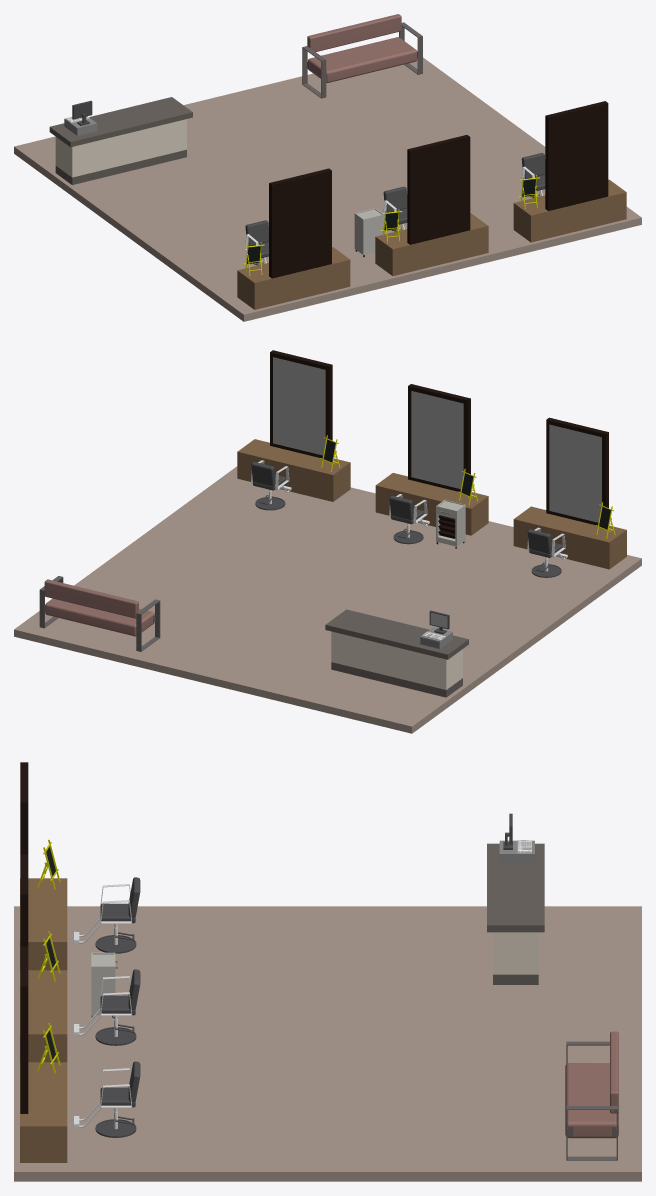
File: Salon.fbx
The picture shows the model from 3 angles, top to bottom: view 1: azimuth 30°, elevation 25°; view 2: azimuth 150°, elevation 25°; view 3: azimuth 270°, elevation 25°; orthographic projection. The views are drawn at different scales.
Parts seen in each view (by area): view 1: Floor, pCube40 (×3), pCube38, Desk1, Desk, Desk2, pCube58, pCube69, pCube68, pCube1 (×3), pCube18, pCube73 (+1 smaller); view 2: Floor, pPlane1 (×3), pCube38, pCube40 (×3), Desk2, Desk, Desk1, pCube58, pCube69, pCube68, pCube18, pCube73; view 3: Floor, pCube58, Desk, Desk2, Desk1, pCube69, pCube40 (×3), pCube38, pCube18, pCylinder3 (×2), pCube68, pCube72 (+1 smaller).
Part boxes in pixels (x1=…): Floor: x1=14, y1=57, x2=641, y2=321; pCube40 (×3): x1=269, y1=101, x2=608, y2=278; pCube38: x1=55, y1=119, x2=186, y2=184; Desk1: x1=375, y1=213, x2=488, y2=275; Desk: x1=513, y1=179, x2=626, y2=242; Desk2: x1=237, y1=247, x2=350, y2=309; pCube58: x1=49, y1=97, x2=192, y2=147; pCube69: x1=308, y1=37, x2=417, y2=82; pCube68: x1=307, y1=14, x2=401, y2=51; pCube1 (×3): x1=245, y1=153, x2=545, y2=246; pCube18: x1=354, y1=208, x2=384, y2=254; pCube73: x1=302, y1=46, x2=326, y2=98; Floor: x1=14, y1=466, x2=641, y2=733; pPlane1 (×3): x1=273, y1=357, x2=601, y2=522; pCube38: x1=331, y1=631, x2=462, y2=697; pCube40 (×3): x1=270, y1=350, x2=608, y2=525; Desk2: x1=513, y1=506, x2=626, y2=569; Desk: x1=237, y1=439, x2=350, y2=501; Desk1: x1=375, y1=473, x2=488, y2=535; pCube58: x1=325, y1=609, x2=468, y2=659; pCube69: x1=45, y1=598, x2=154, y2=636; pCube68: x1=44, y1=579, x2=138, y2=618; pCube18: x1=436, y1=500, x2=465, y2=546; pCube73: x1=136, y1=599, x2=160, y2=651; Floor: x1=14, y1=906, x2=641, y2=1181; pCube58: x1=487, y1=843, x2=544, y2=932; Desk: x1=20, y1=1062, x2=67, y2=1162; Desk2: x1=20, y1=878, x2=67, y2=970; Desk1: x1=20, y1=970, x2=67, y2=1062; pCube69: x1=565, y1=1063, x2=618, y2=1138; pCube40 (×3): x1=20, y1=762, x2=28, y2=1113; pCube38: x1=493, y1=932, x2=538, y2=984; pCube18: x1=91, y1=952, x2=115, y2=1015; pCylinder3 (×2): x1=95, y1=1027, x2=136, y2=1137; pCube68: x1=610, y1=1031, x2=618, y2=1113; pCube72: x1=566, y1=1106, x2=617, y2=1160.
Bounding box in the file's own units: 1000 × 306 × 1000.
